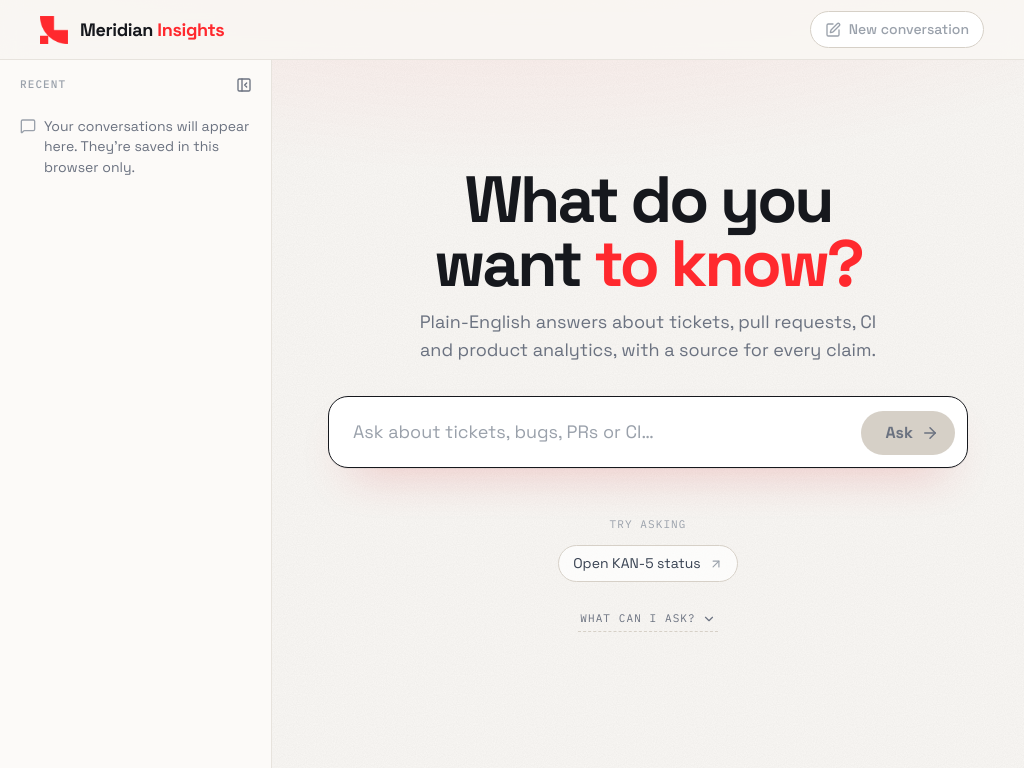
Test case: App › shows an error card when the stream reports a failure
Click the button "Open KAN-5 status": x=648, y=564 [558,545,738,582]
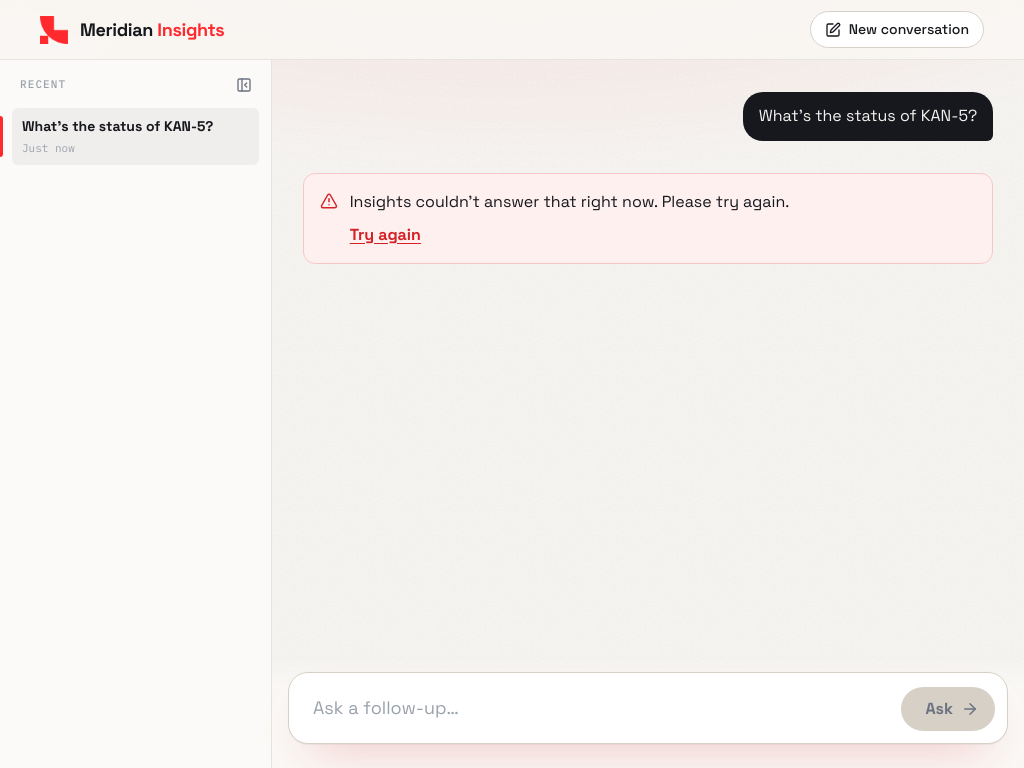
Result: the text "Insights couldn't answer that right now. Please try again." is shown at [350,190,789,215]
Result: the button "Try again" is shown at [350,223,421,247]
